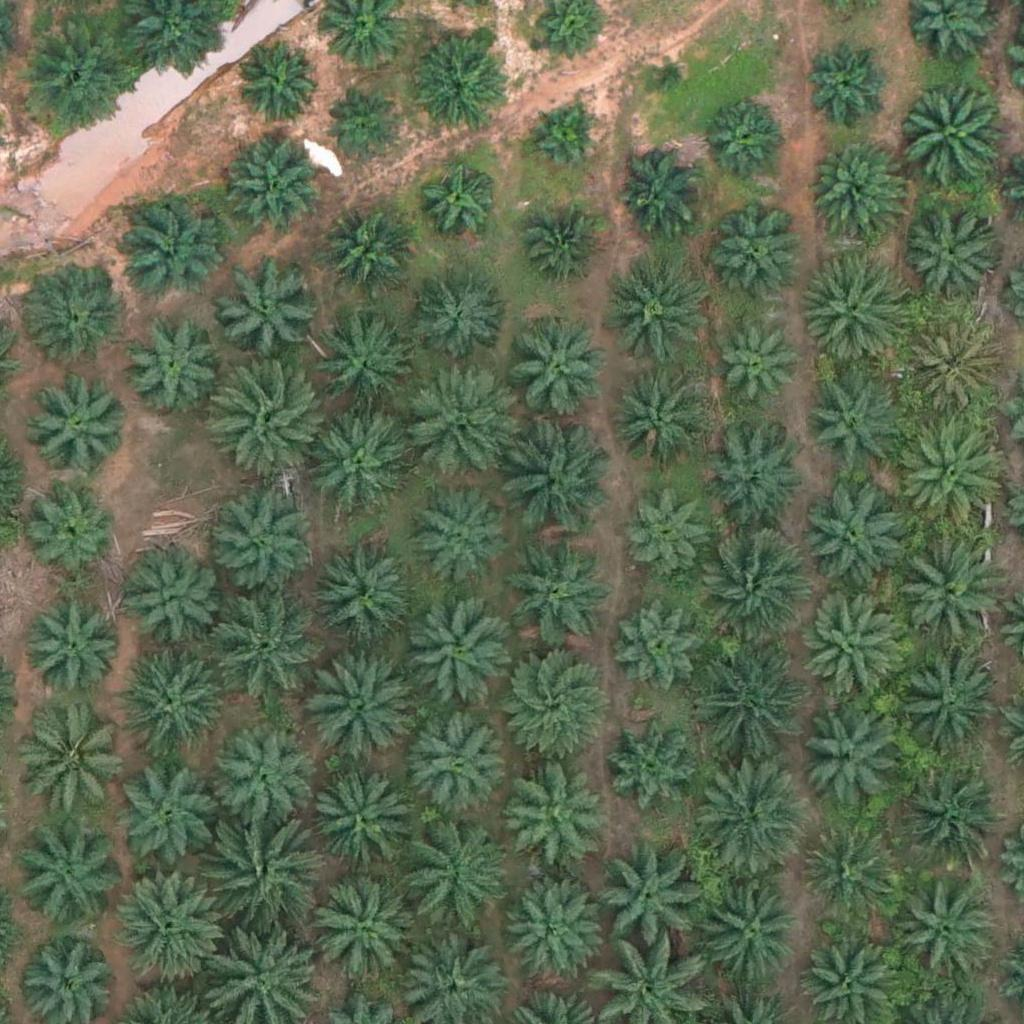Kelapa_Sawit: (401, 363, 514, 477), (20, 27, 133, 140), (203, 820, 316, 933), (10, 821, 123, 934), (493, 641, 606, 754), (400, 598, 513, 711), (111, 642, 224, 755), (693, 880, 805, 994), (694, 524, 806, 638), (691, 642, 803, 756), (498, 419, 610, 533), (801, 254, 913, 367), (692, 765, 804, 878), (402, 819, 514, 932), (308, 872, 420, 985), (112, 868, 224, 981), (893, 420, 1005, 533), (306, 647, 418, 760), (210, 592, 322, 705), (204, 482, 316, 595), (211, 362, 323, 475), (20, 705, 132, 818), (901, 88, 1001, 189), (900, 200, 1000, 301), (405, 41, 505, 142), (807, 140, 907, 241), (708, 208, 808, 309), (506, 321, 606, 422), (218, 258, 318, 359), (116, 197, 216, 298), (24, 262, 124, 363), (892, 879, 992, 980), (802, 824, 902, 925), (510, 880, 610, 981), (897, 534, 997, 635), (899, 657, 999, 758), (805, 375, 905, 476), (803, 494, 903, 595), (703, 432, 803, 533), (600, 712, 700, 813), (499, 762, 599, 863), (408, 711, 508, 812), (407, 482, 507, 583), (306, 412, 406, 513), (310, 545, 410, 646), (305, 773, 405, 874), (214, 728, 314, 829), (121, 549, 221, 650), (114, 763, 214, 864), (26, 597, 126, 698), (29, 372, 129, 473), (904, 310, 1004, 410), (606, 263, 706, 363), (221, 144, 321, 244), (120, 313, 220, 413), (593, 851, 693, 951), (902, 772, 1002, 872), (805, 602, 905, 702), (799, 708, 899, 808), (613, 593, 713, 693), (609, 367, 709, 467), (504, 544, 604, 644), (409, 264, 509, 364), (316, 319, 416, 419), (804, 41, 892, 129), (711, 328, 799, 416), (617, 146, 705, 234), (625, 488, 713, 576), (321, 209, 408, 297), (517, 210, 604, 298), (701, 87, 788, 175), (234, 41, 321, 129), (29, 484, 116, 572), (419, 163, 494, 239), (525, 103, 600, 179), (329, 94, 404, 169), (642, 47, 692, 97)
